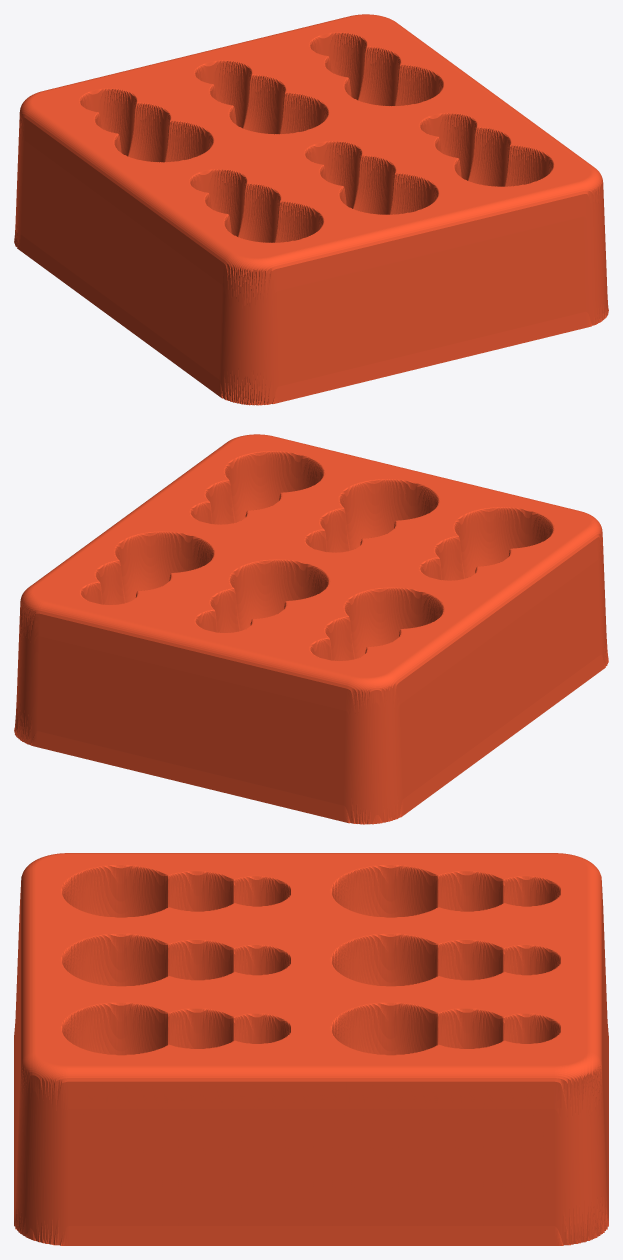
File: mold.glb
3 renders of one model, top to bottom at view 1: azimuth 30°, elevation 25°; view 2: azimuth 150°, elevation 25°; view 3: azimuth 270°, elevation 25°, orthographic. The views are drawn at different scales.
Visible parts, largest first — view 1: geometry_0; view 2: geometry_0; view 3: geometry_0.
Part boxes in pixels (bbox=[...]): geometry_0: bbox=[14, 14, 608, 405]; geometry_0: bbox=[14, 434, 608, 824]; geometry_0: bbox=[14, 853, 608, 1245].
Bounding box in the file's own units: 0.0905 × 0.0314 × 0.0991.
